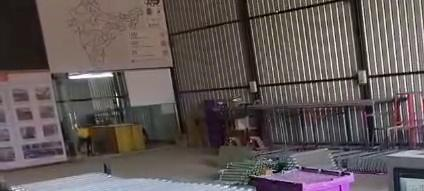box: (251, 168, 353, 190)
